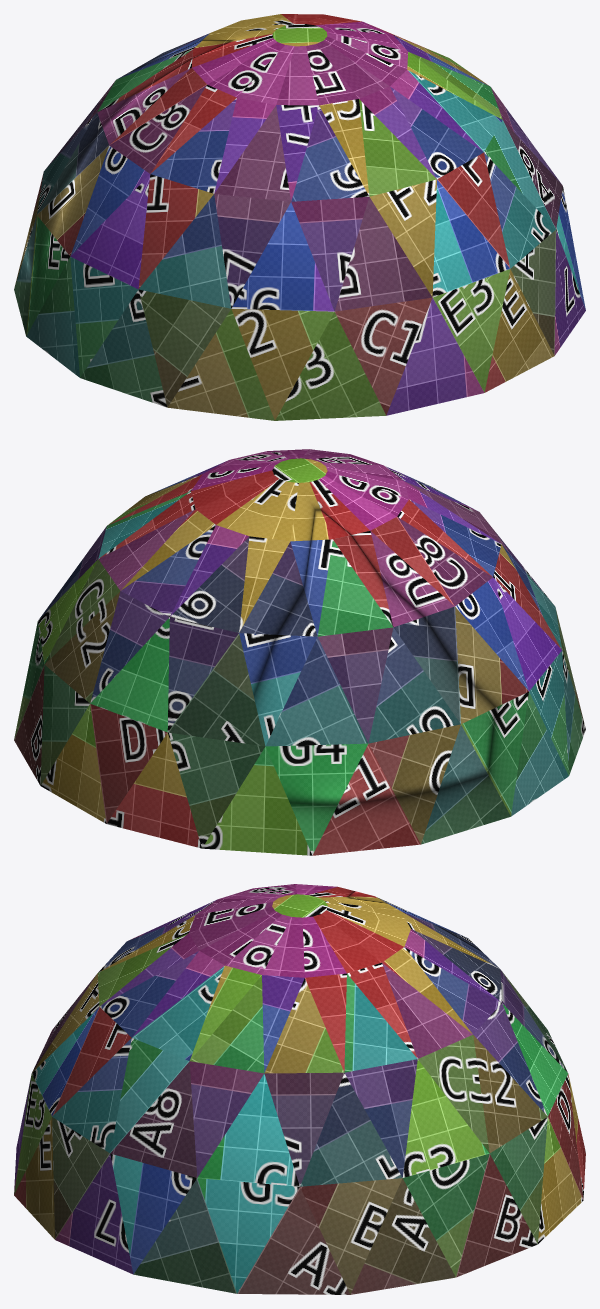
Rendered from tent3_2024.glb.
3 renders of one model, top to bottom at view 1: azimuth 30°, elevation 25°; view 2: azimuth 150°, elevation 25°; view 3: azimuth 270°, elevation 25°, orthographic.
Visible parts, largest first — view 1: TENT__1_2024.CASE; view 2: TENT__1_2024.CASE; view 3: TENT__1_2024.CASE.
Boxes of the visible parts, x1=… form: TENT__1_2024.CASE: x1=14, y1=14, x2=585, y2=420; TENT__1_2024.CASE: x1=14, y1=449, x2=585, y2=855; TENT__1_2024.CASE: x1=14, y1=884, x2=585, y2=1294.
Size of the model in its own units: 9.85 by 5.11 by 9.85.
1 material, 1 textured.
